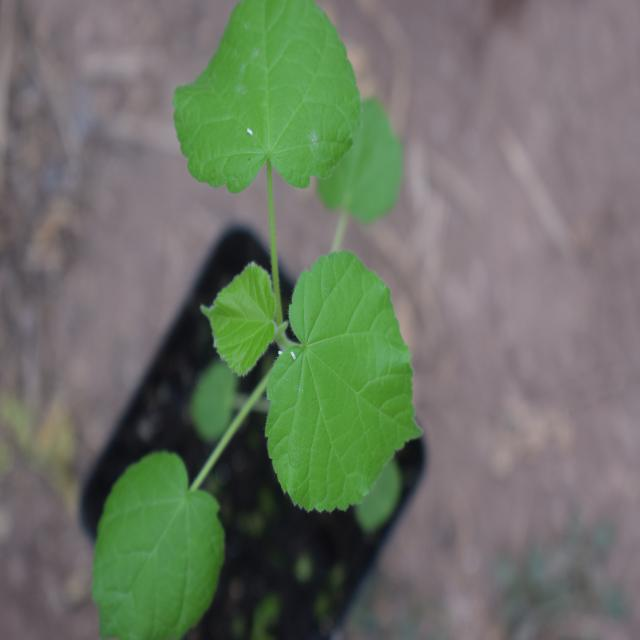abutilon theophrasti: (93, 0, 391, 619)
